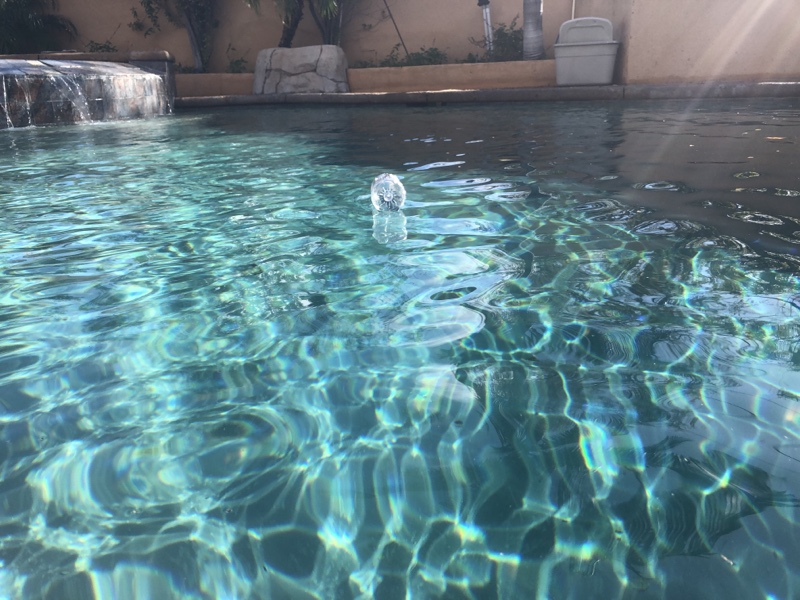Plastic Bottle: (367, 170, 407, 216)
